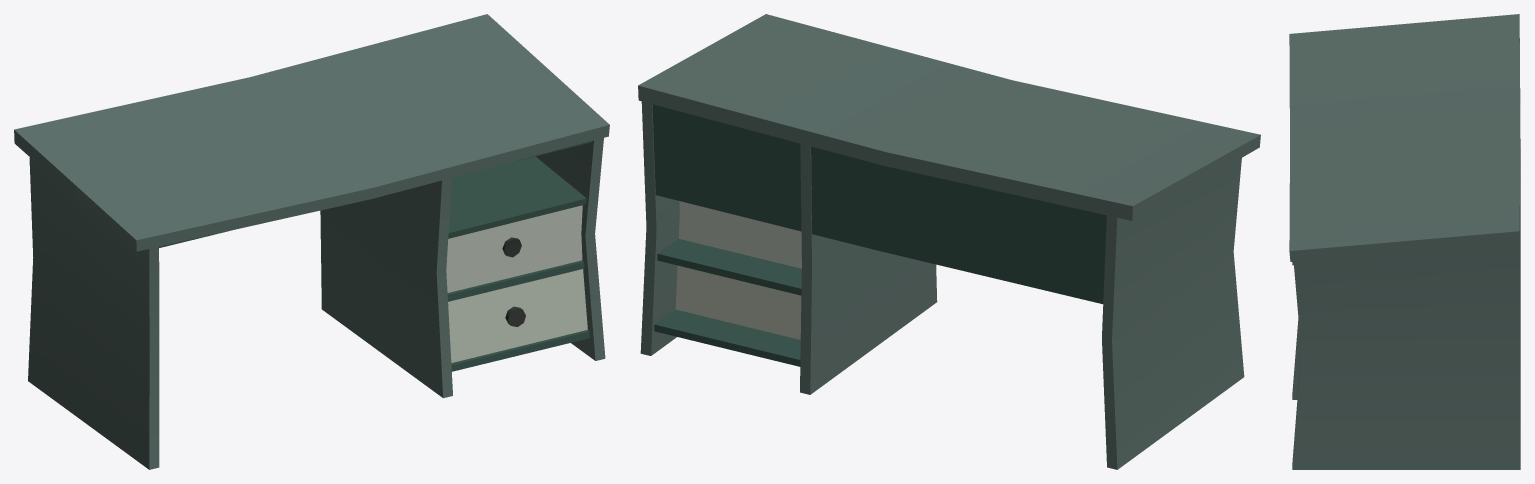
Rendered from childerns room table.fbx.
3 renders of one model, left to right at view 1: azimuth 30°, elevation 25°; view 2: azimuth 150°, elevation 25°; view 3: azimuth 270°, elevation 25°, orthographic. The views are drawn at different scales.
Visible parts, largest first — view 1: stuff children table, stuff children table.002, stuff children table.001; view 2: stuff children table, stuff children table.002, stuff children table.001; view 3: stuff children table.
Part boxes in pixels (bbox=[...]): stuff children table: bbox=[14, 14, 609, 469]; stuff children table.002: bbox=[448, 269, 587, 362]; stuff children table.001: bbox=[446, 205, 582, 292]; stuff children table: bbox=[638, 14, 1260, 469]; stuff children table.002: bbox=[675, 265, 801, 339]; stuff children table.001: bbox=[678, 201, 801, 268]; stuff children table: bbox=[1289, 14, 1520, 469].
Bounding box in the file's own units: 2.51 × 1.3 × 1.13.
